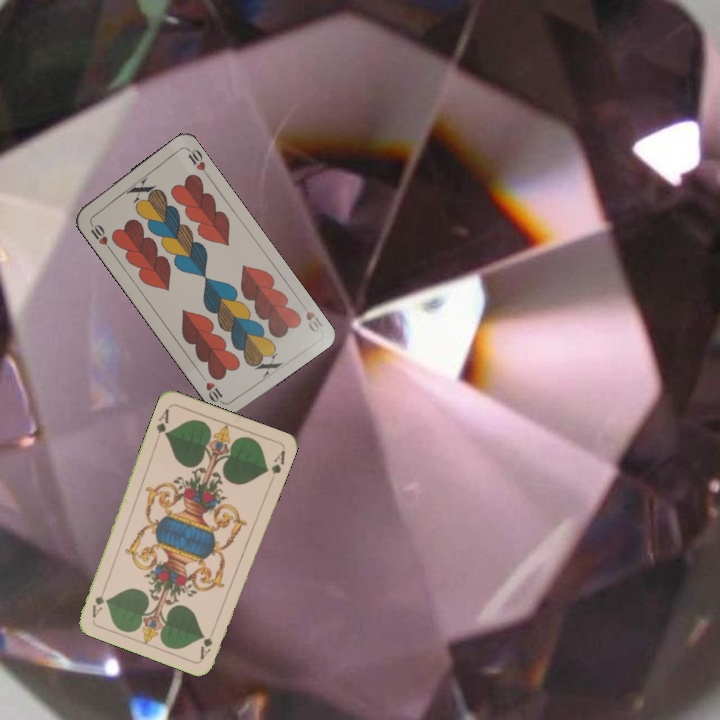GA: (196, 622, 218, 662), (152, 404, 172, 438)
H10: (296, 298, 326, 335), (86, 218, 114, 253)
